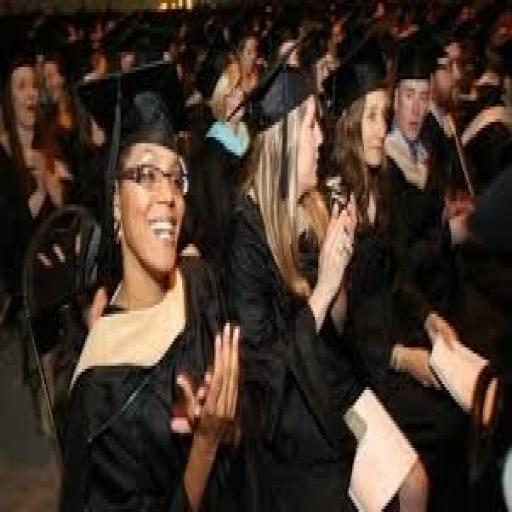clapping: (2, 3, 508, 509)
